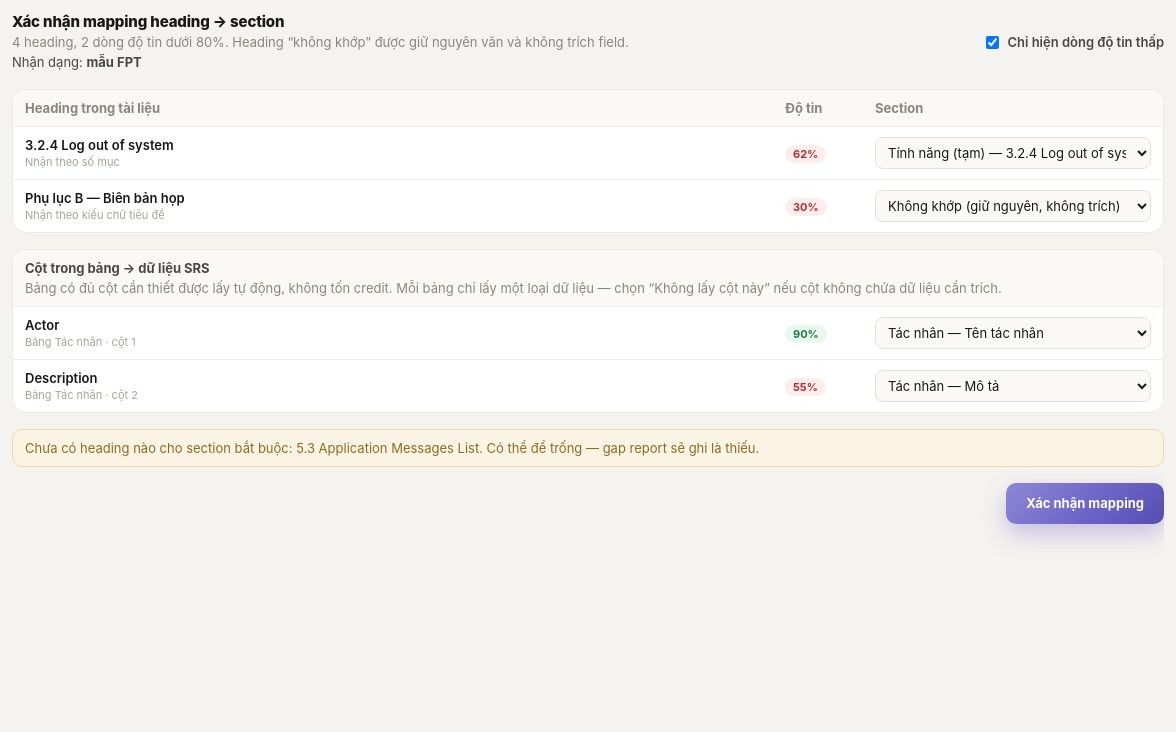
Test: MappingReviewTable — xác nhận mapping heading → section (UC-21, 1.7) › mặc định chỉ hiện dòng độ tin < 80%; bỏ lọc thì hiện đủ; độ tin + cách nhận heading hiển thị
The width and height of the screenshot is (1176, 732).
expect the text "4 heading, 2 dòng độ tin dưới 80%" is shown: met, box [12, 32, 629, 52]
expect the text "3.2.4 Log out of system" is shown: met, box [25, 137, 174, 153]
Click the checkbox labelled "Chỉ hiện dòng độ tin thấp" at (993, 42), box [986, 36, 999, 49]
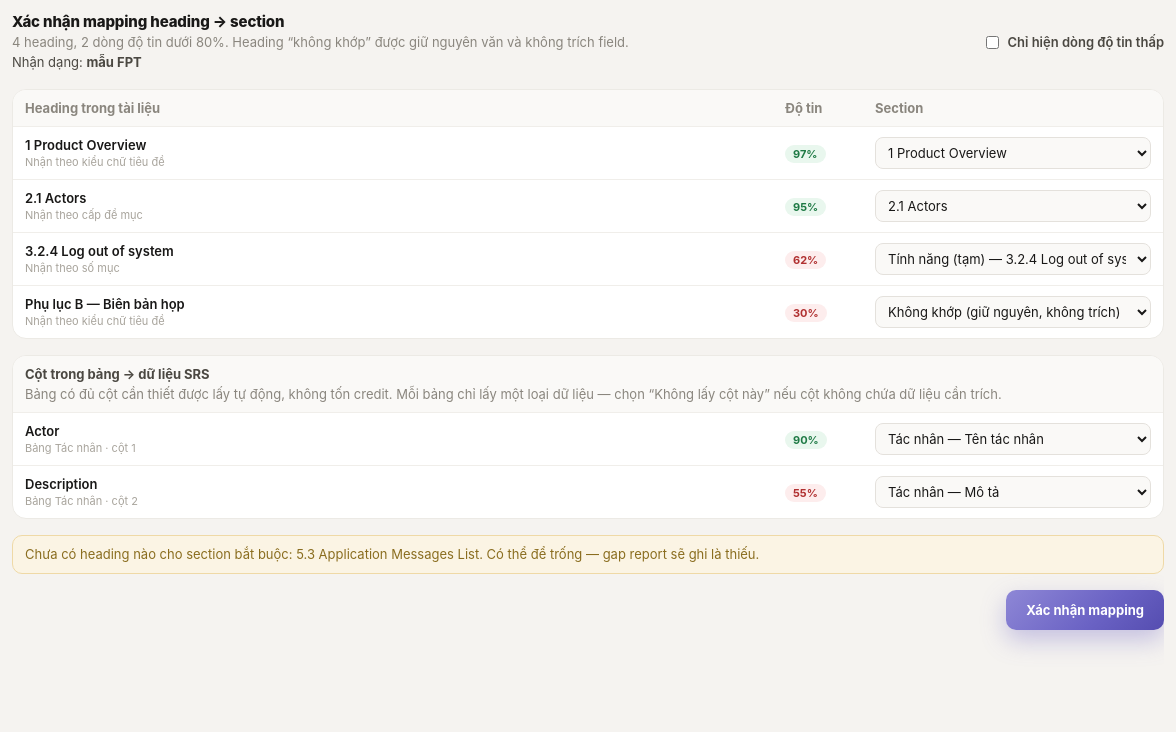
expect the checkbox labelled "Chỉ hiện dòng độ tin thấp" is not checked: met, box [986, 36, 999, 49]
expect the text "1 Product Overview" is shown: met, box [25, 137, 146, 153]
expect the text "Nhận theo cấp đề mục" is shown: met, box [25, 208, 143, 222]
